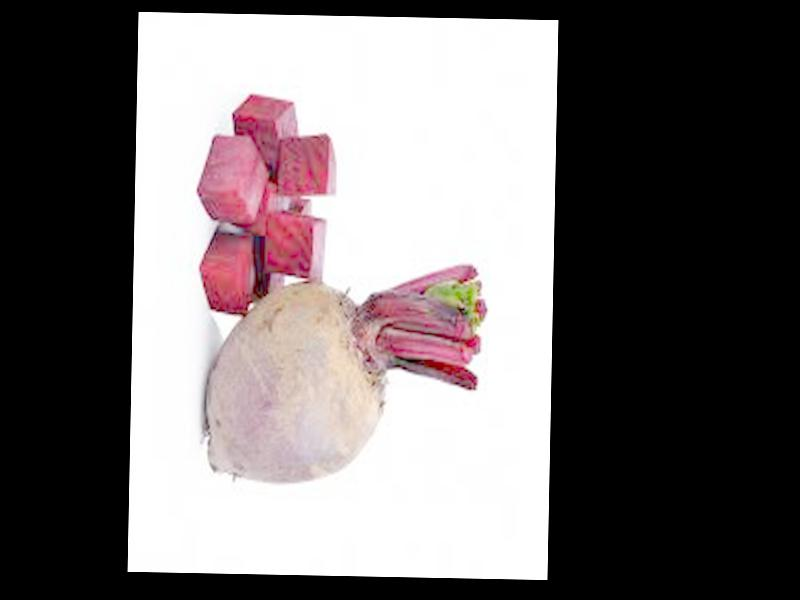Beet: (202, 260, 485, 486)
